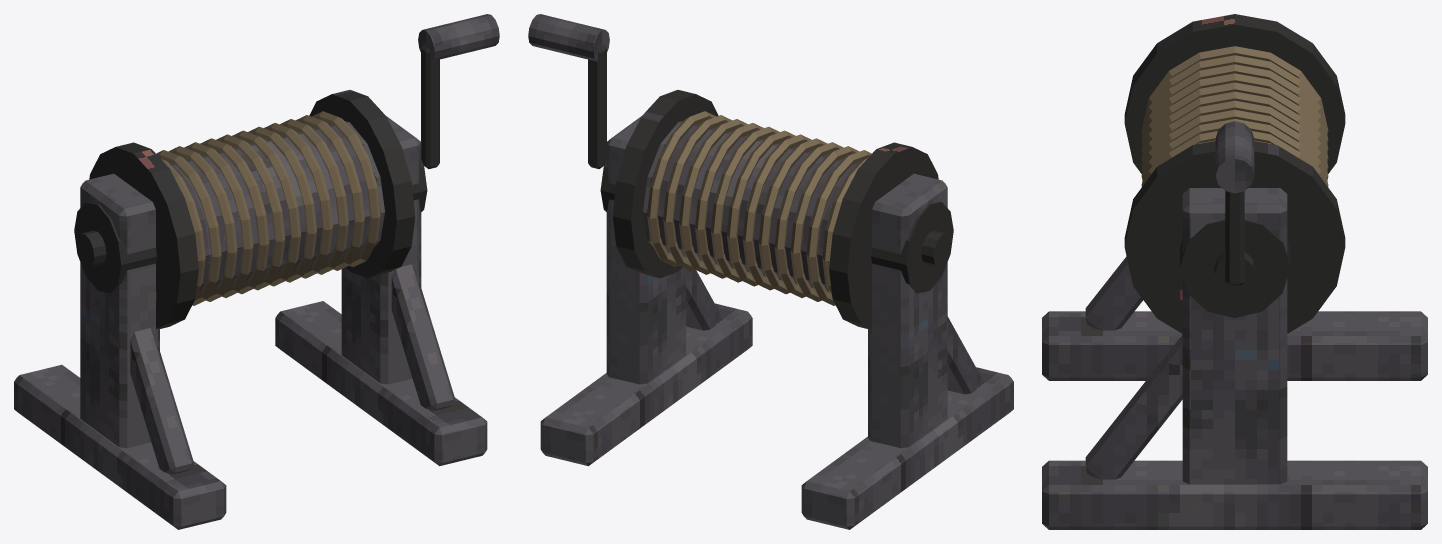
Rendered from act2_winch.glb.
3 views of the same model, side by side, from view 1: azimuth 30°, elevation 25°; view 2: azimuth 150°, elevation 25°; view 3: azimuth 270°, elevation 25° (orthographic). The views are drawn at different scales.
Visible parts, largest first — view 1: support, skid, skid.001, drum, flange, support.001, flange.001, foot_brace_L, foot_brace_R, bearing, grip, crank (+13 smaller); view 2: support, skid, skid.001, support.001, drum, flange, flange.001, bearing, grip, crank, rope_coil.004, rope_coil.005 (+13 smaller); view 3: skid.001, support.001, flange.001, skid, flange, bearing.001, foot_brace_R, grip, foot_brace_L, crank, rope_coil, rope_coil.002 (+9 smaller).
Boxes of the visible parts, x1=… form: support: x1=80, y1=173, x2=159, y2=448; skid: x1=14, y1=364, x2=226, y2=529; skid.001: x1=275, y1=301, x2=487, y2=466; drum: x1=169, y1=121, x2=384, y2=292; flange: x1=89, y1=142, x2=198, y2=328; support.001: x1=341, y1=116, x2=421, y2=384; flange.001: x1=309, y1=90, x2=415, y2=278; foot_brace_L: x1=130, y1=328, x2=194, y2=474; foot_brace_R: x1=391, y1=264, x2=455, y2=410; bearing: x1=74, y1=201, x2=156, y2=293; grip: x1=418, y1=14, x2=499, y2=61; crank: x1=421, y1=44, x2=439, y2=168; support: x1=868, y1=173, x2=947, y2=448; skid: x1=801, y1=367, x2=1013, y2=529; skid.001: x1=540, y1=303, x2=752, y2=466; support.001: x1=606, y1=116, x2=686, y2=384; drum: x1=643, y1=121, x2=858, y2=292; flange: x1=829, y1=142, x2=938, y2=328; flange.001: x1=612, y1=90, x2=718, y2=278; bearing: x1=871, y1=201, x2=953, y2=293; grip: x1=528, y1=14, x2=609, y2=61; crank: x1=588, y1=44, x2=606, y2=168; rope_coil.004: x1=758, y1=138, x2=827, y2=294; rope_coil.005: x1=742, y1=134, x2=811, y2=290; skid.001: x1=1042, y1=460, x2=1427, y2=529; support.001: x1=1182, y1=188, x2=1287, y2=484; flange.001: x1=1124, y1=141, x2=1345, y2=333; skid: x1=1042, y1=311, x2=1427, y2=380; flange: x1=1124, y1=14, x2=1345, y2=173; bearing.001: x1=1180, y1=219, x2=1289, y2=317; foot_brace_R: x1=1085, y1=334, x2=1182, y2=479; grip: x1=1215, y1=121, x2=1254, y2=193; foot_brace_L: x1=1085, y1=256, x2=1142, y2=330; crank: x1=1225, y1=191, x2=1244, y2=285; rope_coil: x1=1141, y1=46, x2=1328, y2=134; rope_coil.002: x1=1141, y1=64, x2=1328, y2=152.
Size of the model in its own units: 1.99 by 1.69 by 1.4.
Materials: 3 (2 with a texture image).
